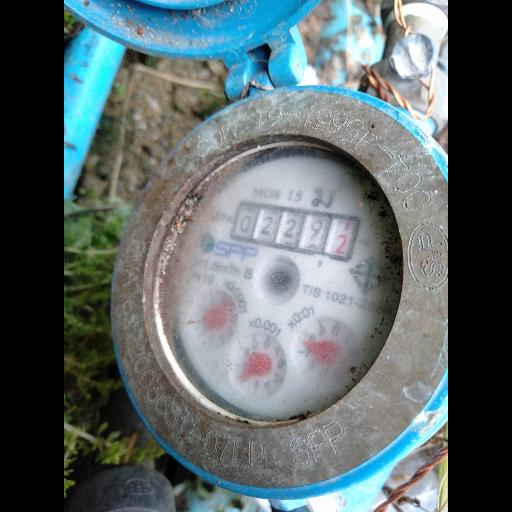0: (234, 204, 258, 239)
2: (331, 218, 355, 257), (279, 211, 303, 248), (255, 208, 279, 243)
9: (304, 213, 329, 251)
border_water_meter_number: (229, 194, 362, 265)
